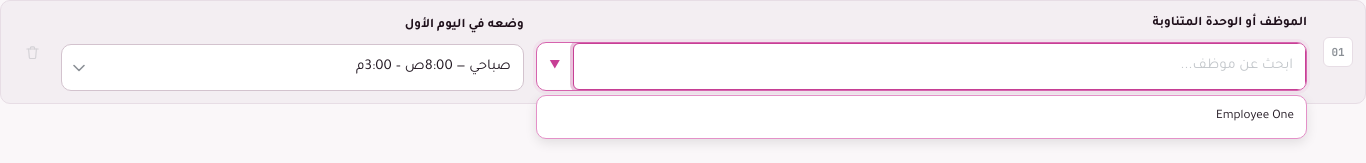
Test case: UnitRow employee selection › shows a selected employee inside the input
Click the button with class "b-unit__combobox-option": (1255, 117) [537,96,1306,138]
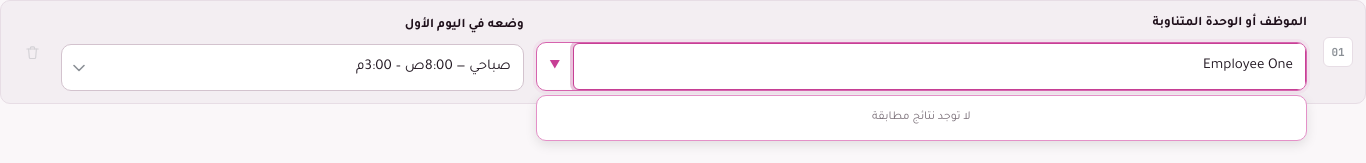
Expected: the field labelled "الموظف أو الوحدة المتناوبة" holds "Employee One", [573,43,1306,90]
